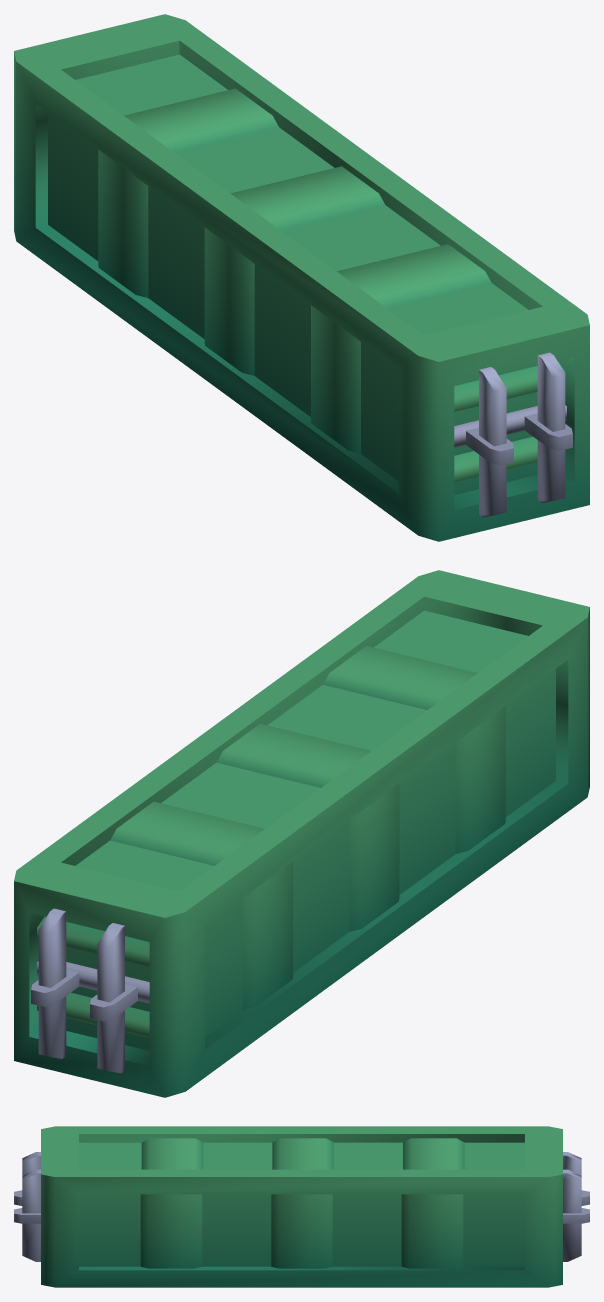
Rendered from container_c.glb.
3 renders of one model, top to bottom at view 1: azimuth 30°, elevation 25°; view 2: azimuth 150°, elevation 25°; view 3: azimuth 270°, elevation 25°, orthographic. The views are drawn at different scales.
Parts seen in each view (by area): view 1: mesh; view 2: mesh; view 3: mesh.
Part boxes in pixels (x1,y1,x2,y2): mesh: [14, 14, 589, 541]; mesh: [14, 570, 589, 1097]; mesh: [14, 1126, 589, 1287].
Size of the model in its own units: 2.54 by 2.58 by 12.2.
